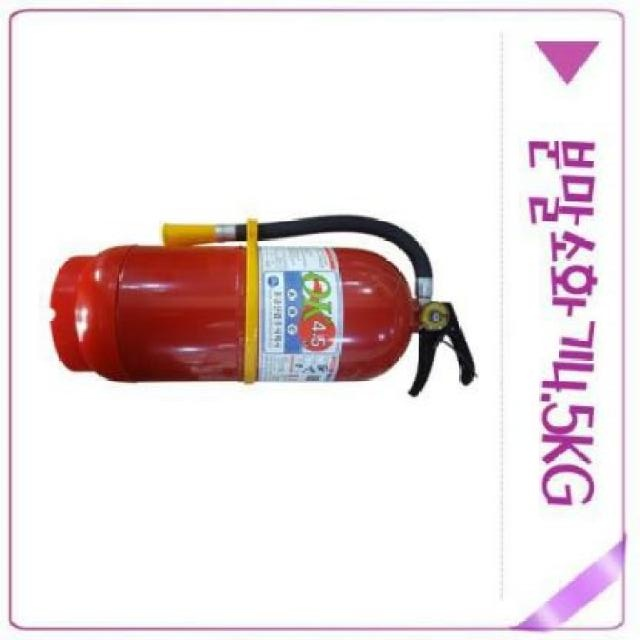fire extinguisher: (49, 214, 475, 398)
